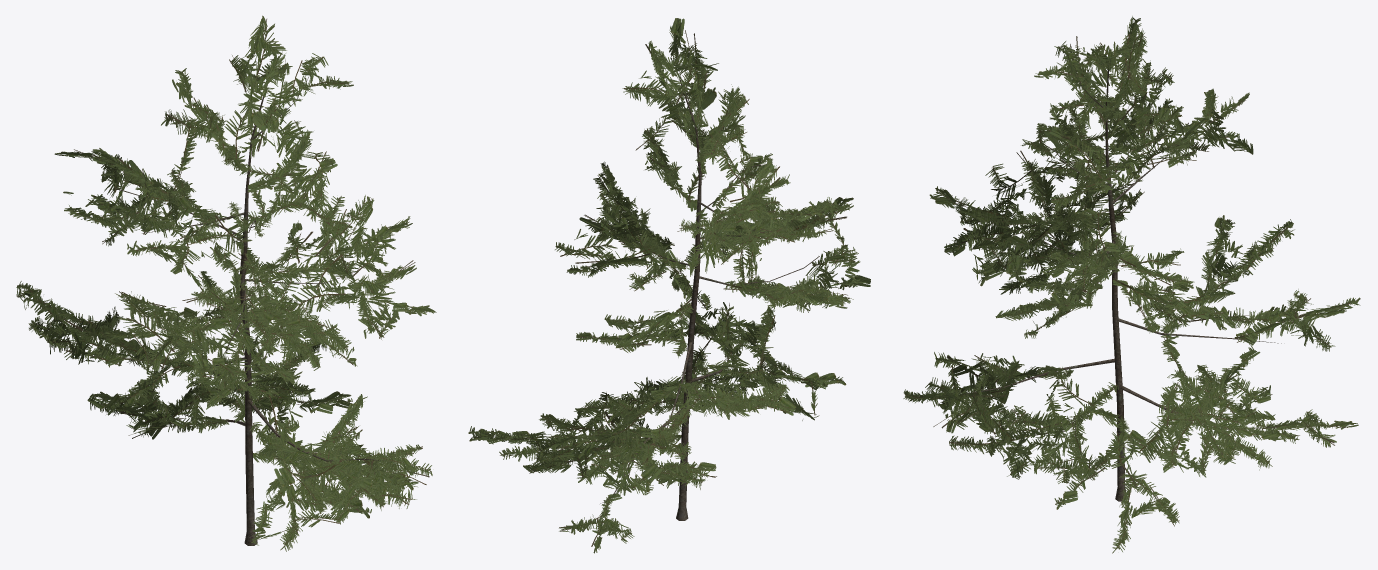
3 views of the same model, side by side, from view 1: azimuth 30°, elevation 25°; view 2: azimuth 150°, elevation 25°; view 3: azimuth 270°, elevation 25° (orthographic). The views are drawn at different scales.
Visible parts, largest first — view 1: fir_sapling__b_lod0; view 2: fir_sapling__b_lod0; view 3: fir_sapling__b_lod0.
Part boxes in pixels (x1,y1,x2,y2): fir_sapling__b_lod0: (16, 15, 436, 551); fir_sapling__b_lod0: (468, 18, 870, 553); fir_sapling__b_lod0: (903, 16, 1360, 553).
Size of the model in its own units: 0.6511 by 0.9537 by 0.8282.
Materials: 2 (2 with a texture image).
